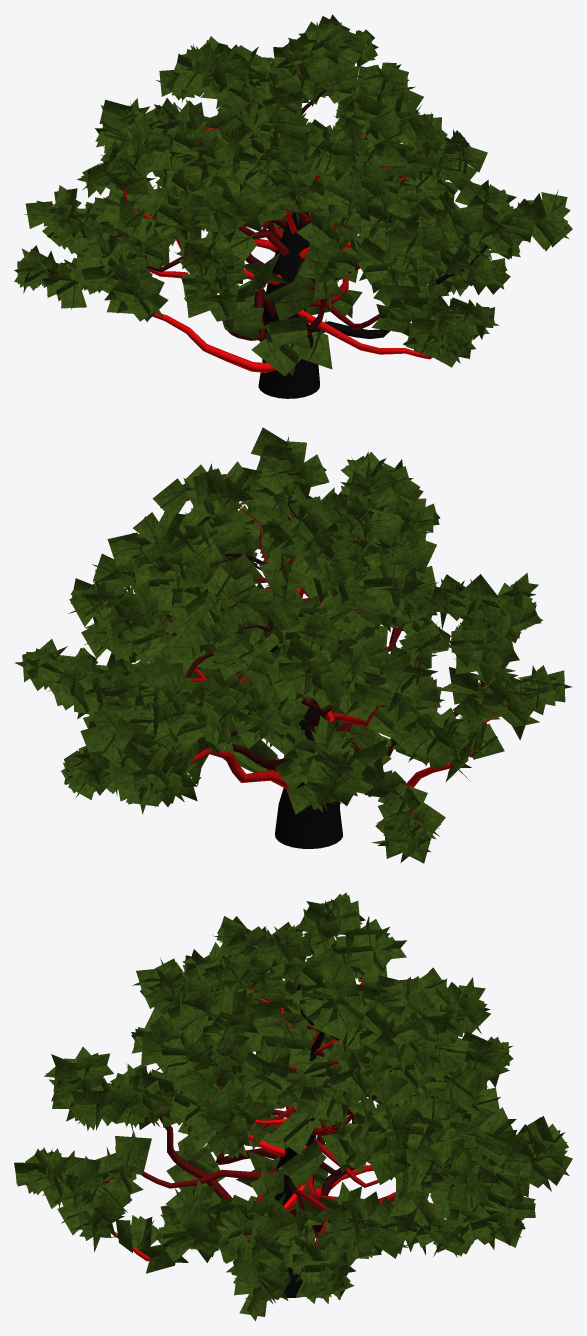
File: oak8 lod0.FBX
3 views of the same model, one above another, from view 1: azimuth 30°, elevation 25°; view 2: azimuth 150°, elevation 25°; view 3: azimuth 270°, elevation 25° (orthographic). The views are drawn at different scales.
Parts seen in each view (by area): view 1: oak8; view 2: oak8; view 3: oak8.
Boxes of the visible parts, <box> form: oak8: <box>14,14,572,398</box>; oak8: <box>14,427,571,863</box>; oak8: <box>14,892,572,1321</box>.
Bounding box in the file's own units: 202622 × 151846 × 205503.
